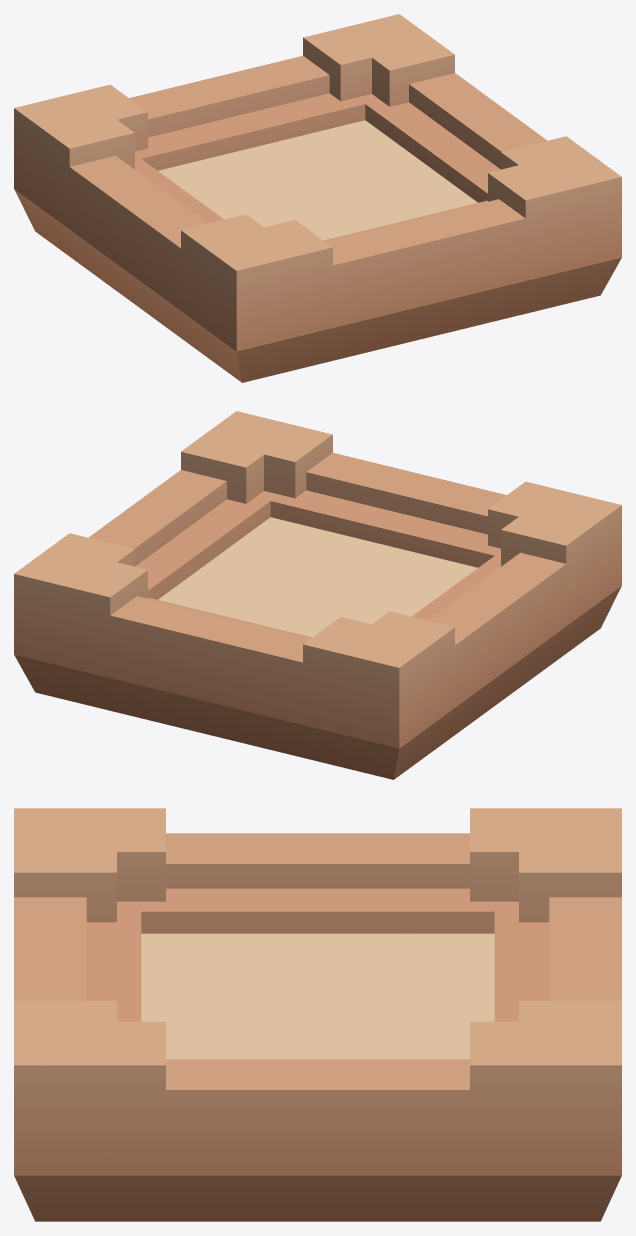
Rendered from tower-square-top.glb.
The picture shows the model from 3 angles, top to bottom: view 1: azimuth 30°, elevation 25°; view 2: azimuth 150°, elevation 25°; view 3: azimuth 270°, elevation 25°; orthographic projection. The views are drawn at different scales.
Visible parts, largest first — view 1: tower-square-top; view 2: tower-square-top; view 3: tower-square-top.
Boxes of the visible parts, x1,y1,x2,y2 form: tower-square-top: (14,14,621,382); tower-square-top: (14,411,621,779); tower-square-top: (14,808,621,1221).
Size of the model in its own units: 1 by 0.3 by 1.
Materials: 1 (1 with a texture image).
